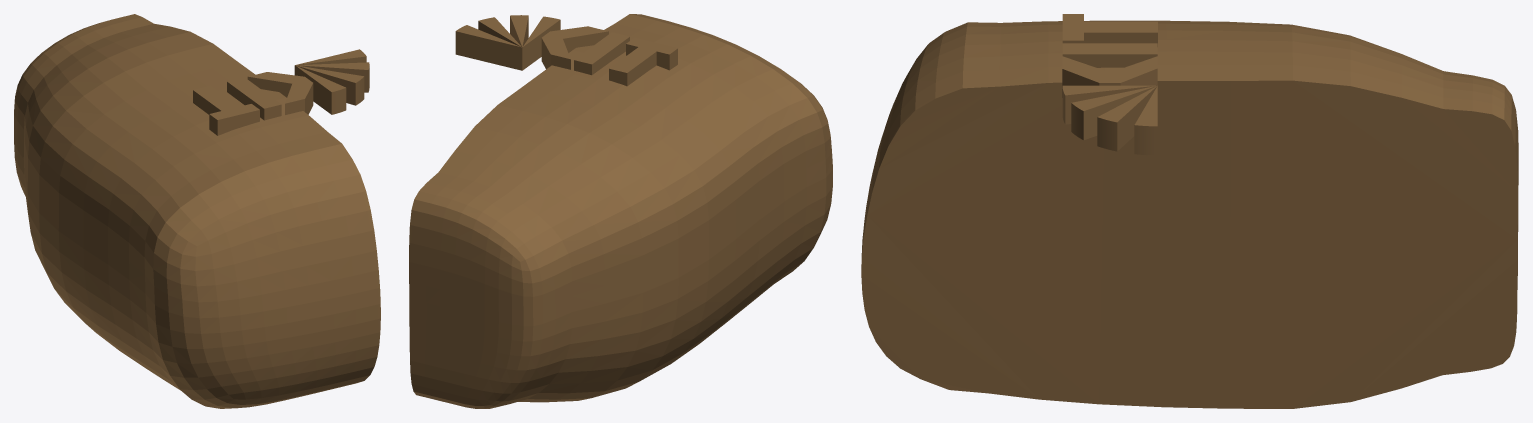
File: LSCsegment_joint_visu.dae
3 views of the same model, side by side, from view 1: azimuth 30°, elevation 25°; view 2: azimuth 150°, elevation 25°; view 3: azimuth 270°, elevation 25° (orthographic). The views are drawn at different scales.
Parts seen in each view (by area): view 1: node; view 2: node; view 3: node.
Part boxes in pixels (box(x1,y1,x2,y2)): node: box(14, 14, 380, 408); node: box(409, 14, 832, 408); node: box(861, 14, 1518, 408).
Size of the model in its own units: 0.1365 by 0.123 by 0.214.
